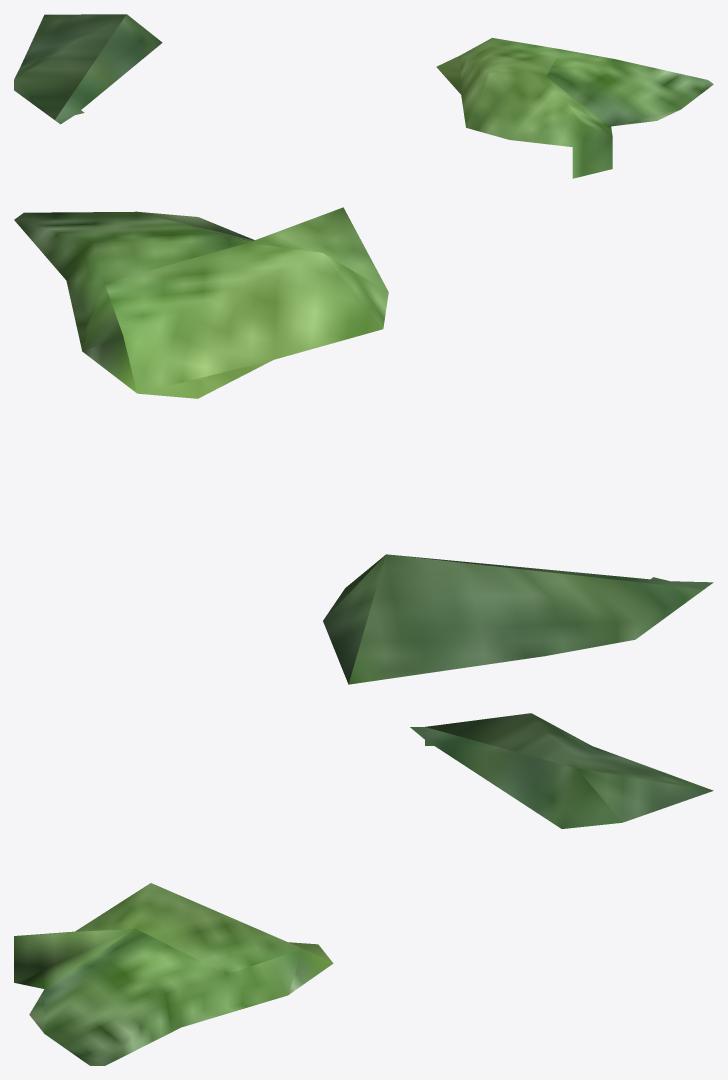
3 views of the same model, one above another, from view 1: azimuth 30°, elevation 25°; view 2: azimuth 150°, elevation 25°; view 3: azimuth 270°, elevation 25° (orthographic). The views are drawn at different scales.
Visible parts, largest first — view 1: 30436272704361726707_0; view 2: 30436272704361726707_0; view 3: 30436272704361726707_0.
Boxes of the visible parts, x1,y1,x2,y2 form: 30436272704361726707_0: [14, 14, 713, 178]; 30436272704361726707_0: [14, 207, 713, 684]; 30436272704361726707_0: [14, 713, 713, 1065].
Bounding box in the file's own units: 8.13 × 1.08 × 7.1.
1 material, 1 textured.
